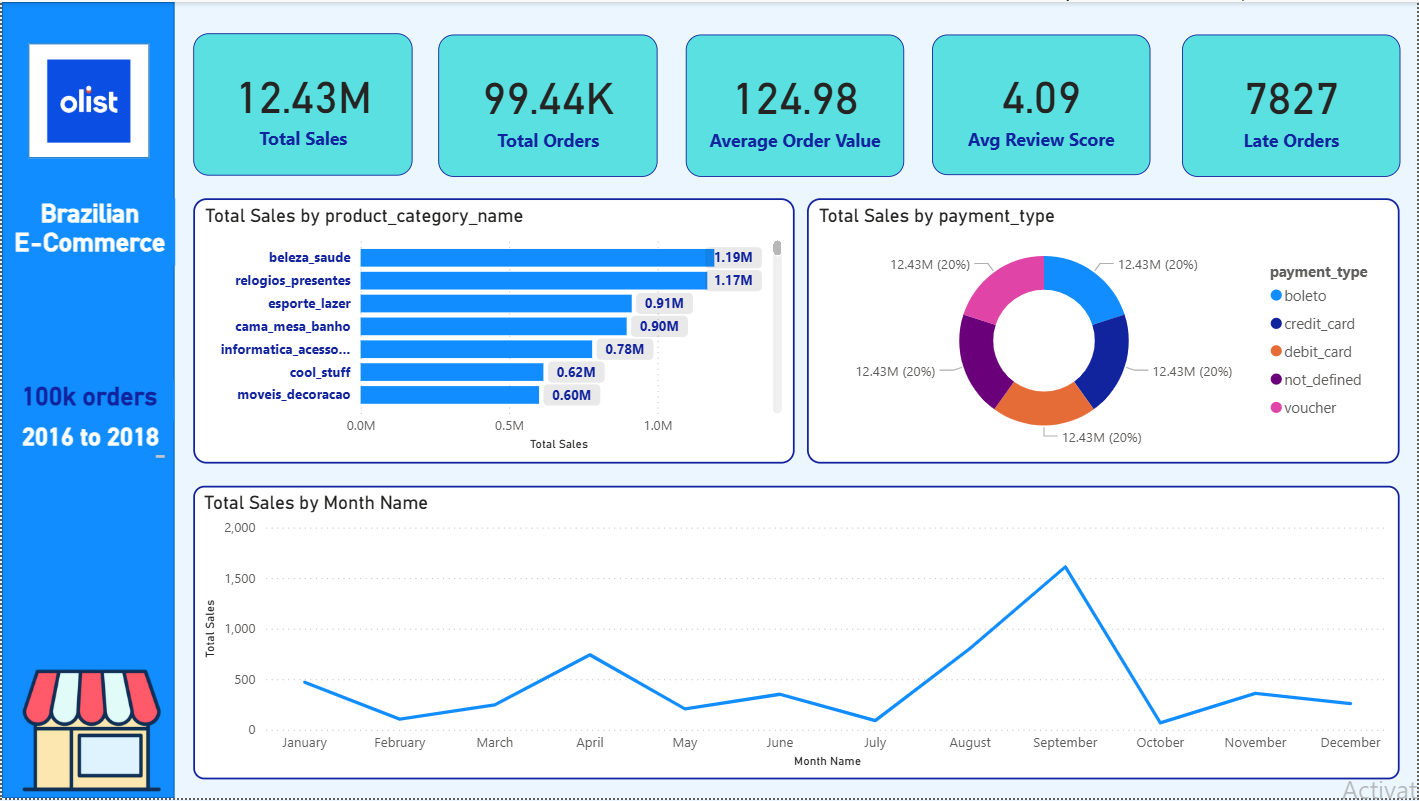

The page's visual inventory and layout, read from the dashboard file:
{"tool":"powerbi","page":{"name":"Executive","canvas":[1280,720],"ordinal":0},"visuals":[{"type":"shape","box":[0,0,156,720.2],"z":0},{"type":"lineChart","fields":{"Y":["_Measures.Total Sales"],"Category":["Dim_Date.Month Name"]},"box":[172.7,437.4,1091.6,265.9],"z":1000},{"type":"shape","box":[23.7,37.3,109.7,104],"z":2000},{"type":"image","box":[3.4,19.2,150.4,140.2],"z":3000},{"type":"card","fields":{"Values":["_Measures.Total Sales"]},"box":[172.5,28.2,198.5,128.6],"z":4000},{"type":"card","fields":{"Values":["_Measures.Total Orders"]},"box":[394.3,29.4,198.5,128.6],"z":5000},{"type":"card","fields":{"Values":["_Measures.Average Order Value"]},"box":[618.5,29.4,197.2,128.6],"z":6000},{"type":"card","fields":{"Values":["_Measures.Avg Review Score"]},"box":[841.4,29.4,197.2,127.4],"z":7000},{"type":"clusteredBarChart","fields":{"Category":["olist_products_dataset.product_category_name"],"Y":["_Measures.Total Sales"]},"box":[172.7,177.9,544,240.1],"z":8000},{"type":"donutChart","fields":{"Category":["olist_order_payments_dataset.payment_type"],"Y":["_Measures.Total Sales"]},"box":[728.1,177.5,535.9,239.7],"z":9000},{"type":"card","fields":{"Values":["_Measures.Late Orders"]},"box":[1066.9,29.4,197.2,128.6],"z":10000},{"type":"textbox","title":"Brazilian  E-Commerce","box":[2.3,177.9,154.7,60.5],"z":11000},{"type":"textbox","title":"100k orders","box":[2.3,343,153.5,36],"z":12000},{"type":"textbox","title":"2016 to 2018 ","box":[8.1,381.4,144.2,36],"z":13000},{"type":"image","box":[15.1,600,130.2,119.8],"z":14000}]}

Visuals, with their boxes in screenshot pixels (x1, y1, x2, y2), scaled from the page's 1280x720 canvas onto the 1419x801 screenshot:
shape: 0,0,173,800
lineChart - _Measures.Total Sales x Dim_Date.Month Name: 191,487,1402,782
shape: 26,41,148,157
image: 4,21,171,177
card - _Measures.Total Sales: 191,31,411,174
card - _Measures.Total Orders: 437,33,657,176
card - _Measures.Average Order Value: 686,33,904,176
card - _Measures.Avg Review Score: 933,33,1151,174
clusteredBarChart - olist_products_dataset.product_category_name x _Measures.Total Sales: 191,198,795,465
donutChart - olist_order_payments_dataset.payment_type x _Measures.Total Sales: 807,197,1401,464
card - _Measures.Late Orders: 1183,33,1401,176
"Brazilian  E-Commerce" textbox: 3,198,174,265
"100k orders" textbox: 3,382,173,422
"2016 to 2018 " textbox: 9,424,169,464
image: 17,668,161,800
